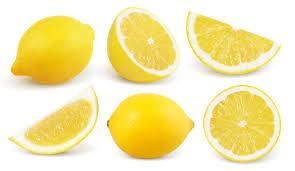lemon: (7, 85, 99, 155), (203, 85, 281, 163), (186, 10, 280, 74), (107, 93, 195, 159), (11, 16, 94, 84), (107, 6, 179, 82)
